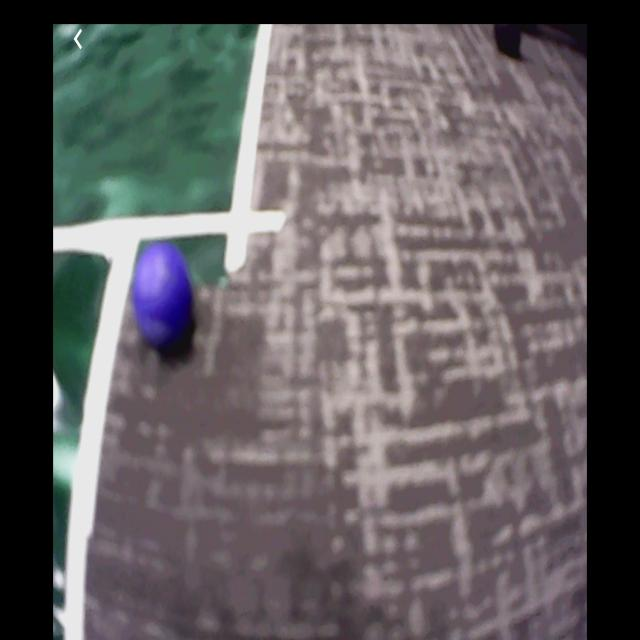ball: (133, 244, 197, 355)
